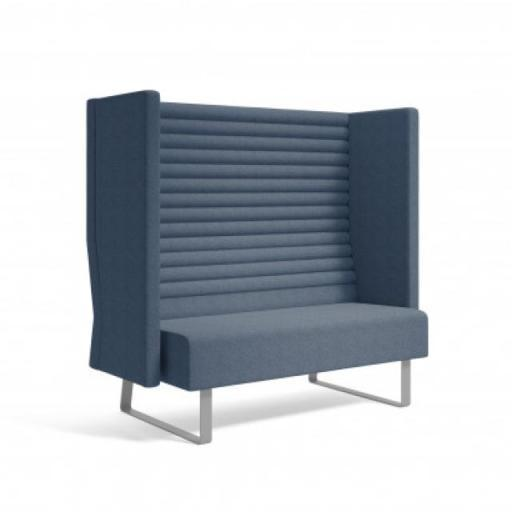sofa: (77, 78, 465, 444)
